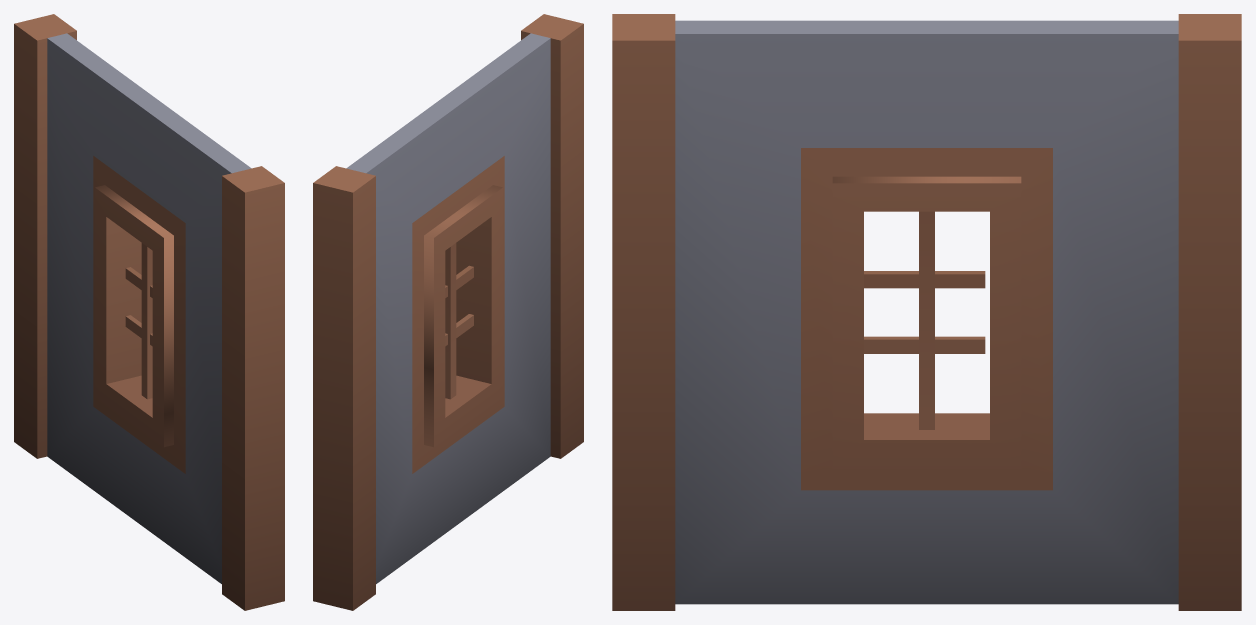
Rendered from wall-window-glass.glb.
3 views of the same model, side by side, from view 1: azimuth 30°, elevation 25°; view 2: azimuth 150°, elevation 25°; view 3: azimuth 270°, elevation 25° (orthographic). The views are drawn at different scales.
Visible parts, largest first — view 1: wall-window-glass; view 2: wall-window-glass; view 3: wall-window-glass.
Part boxes in pixels (bbox=[...]): wall-window-glass: bbox=[14, 14, 284, 610]; wall-window-glass: bbox=[313, 14, 583, 610]; wall-window-glass: bbox=[612, 14, 1241, 610].
Bounding box in the file's own units: 0.2999 × 3 × 3.
